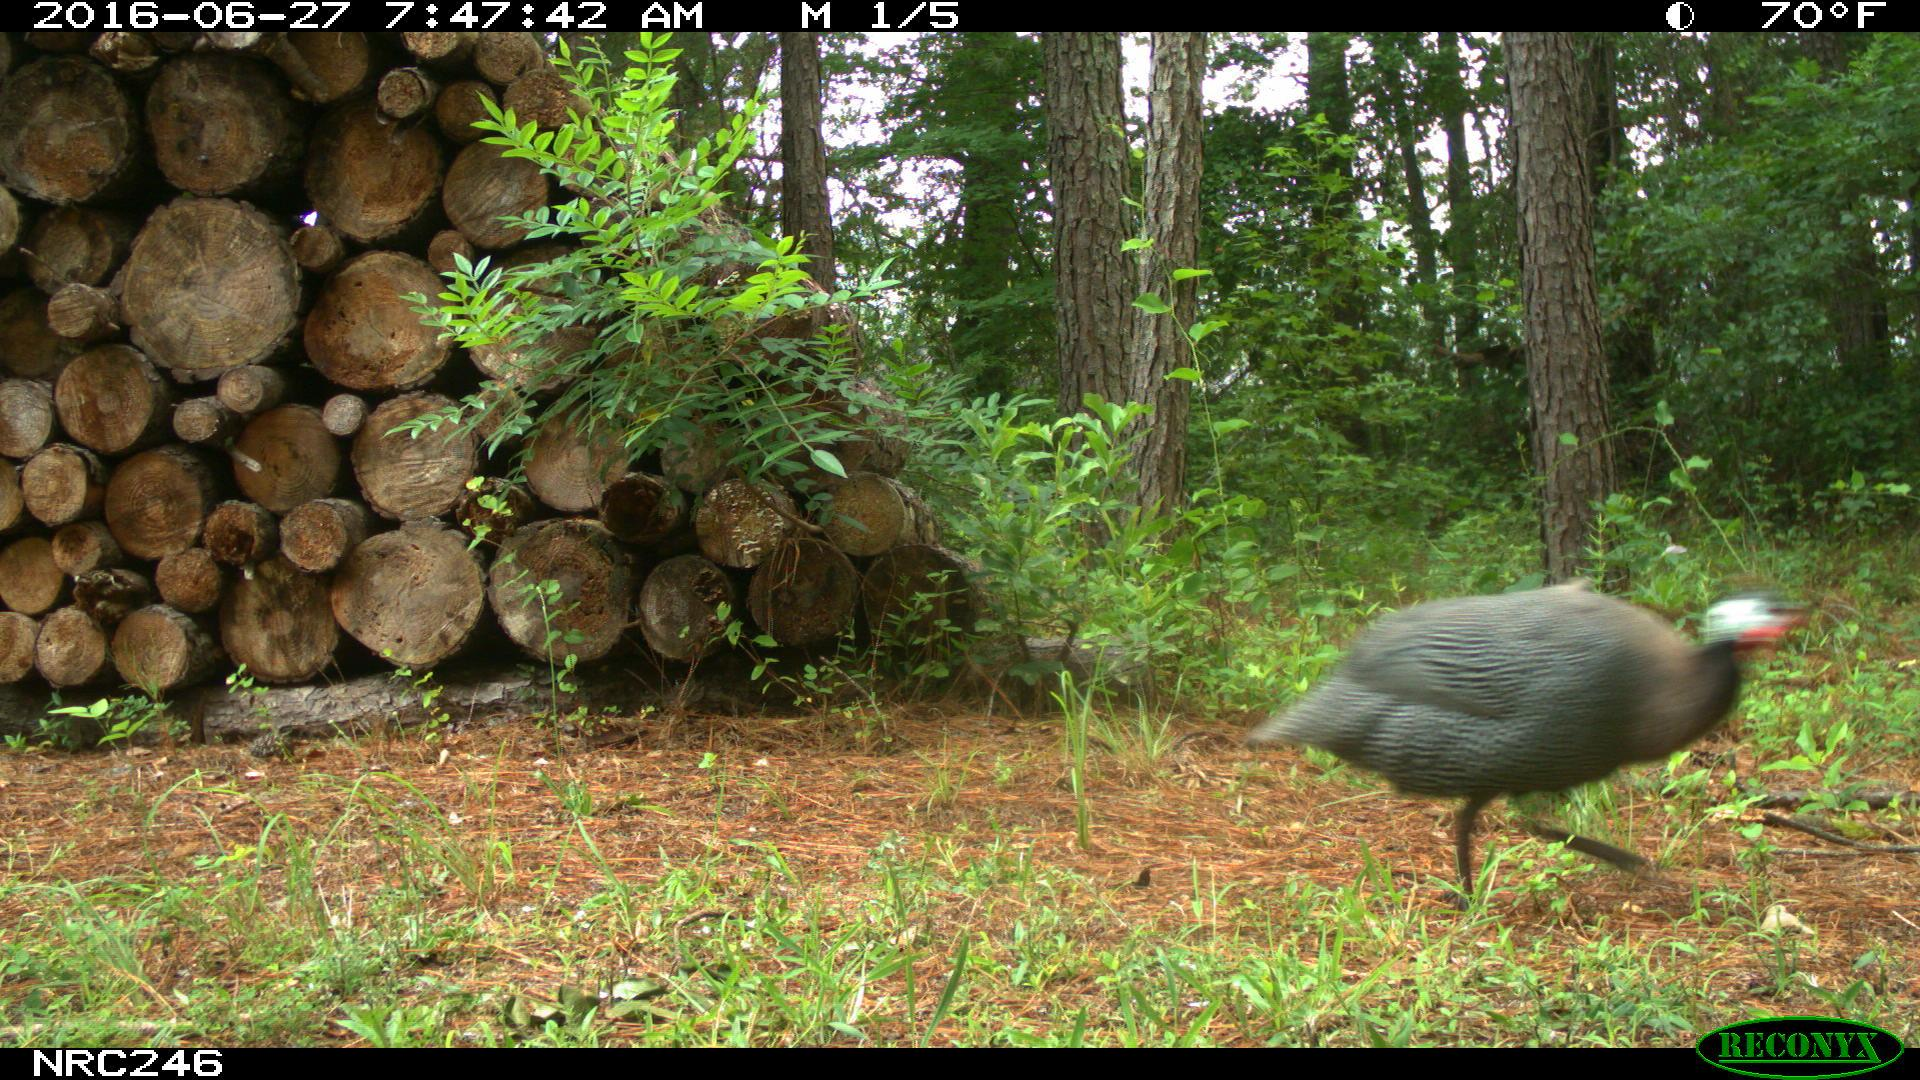Animal: (1247, 580, 1807, 913)
